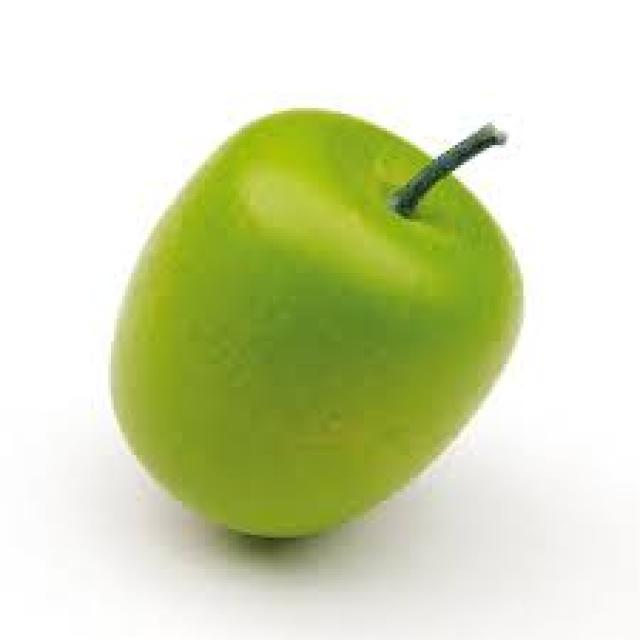50-_ripeness: (75, 100, 540, 557)
